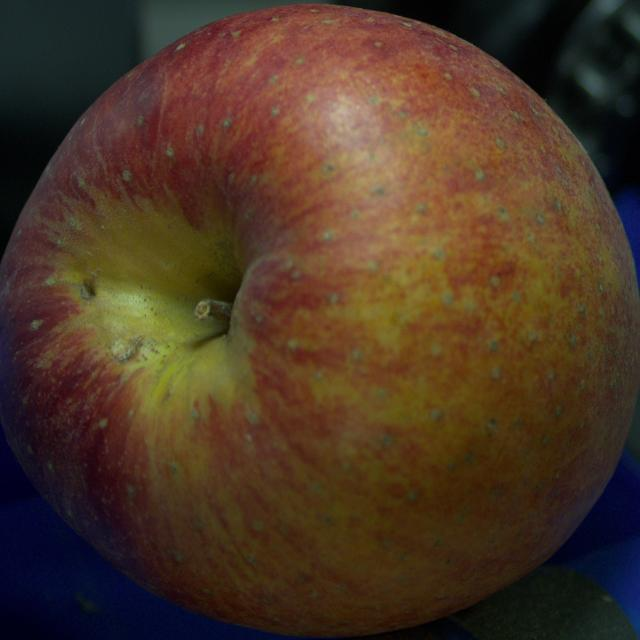apple: (0, 5, 639, 635)
pest: (111, 336, 143, 362), (81, 280, 94, 299)
